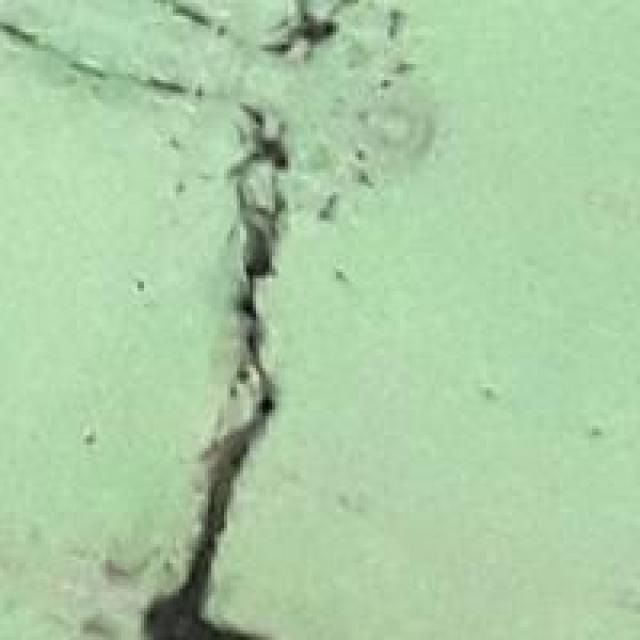crack: (92, 3, 394, 637)
